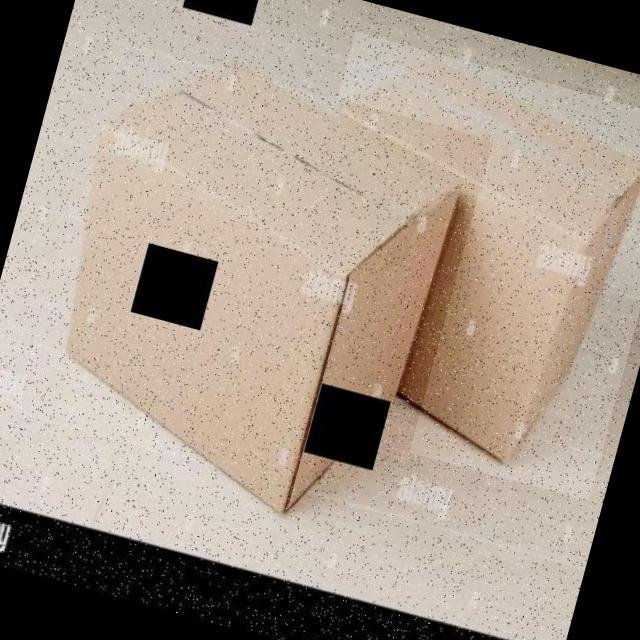box: (5, 38, 492, 543), (253, 31, 640, 500)
